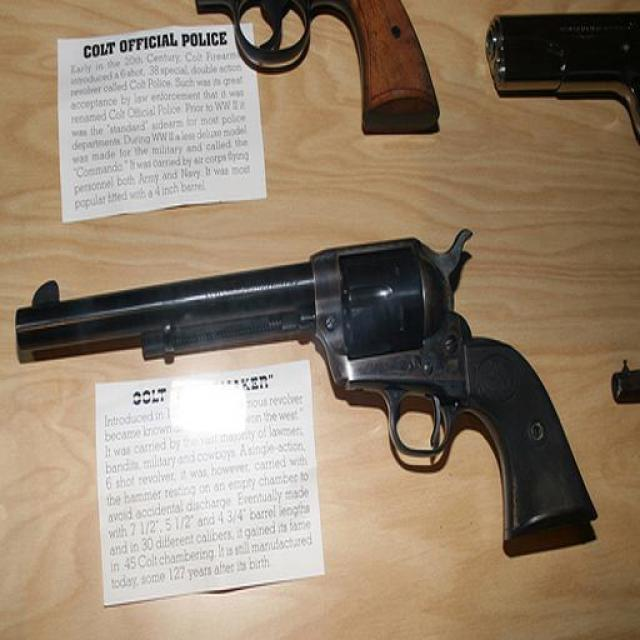pistol: (14, 226, 595, 541), (191, 1, 437, 133), (480, 13, 637, 154)
